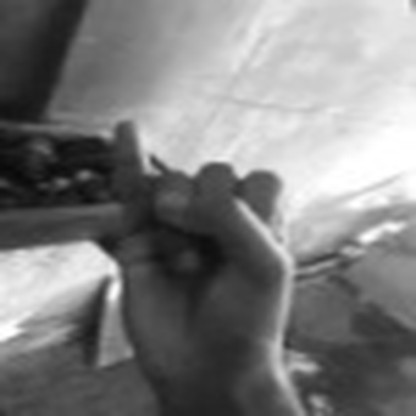i: (100, 110, 302, 370)
